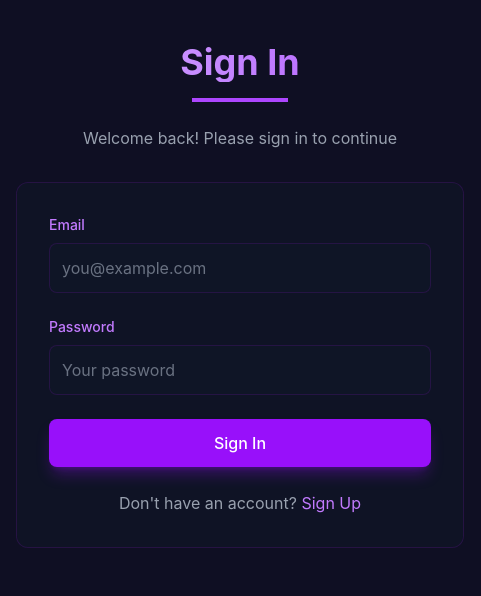
Test case: SignIn Component › displays error message on failed sign in
In the field with placeholder "you@example.com": x=240, y=268 [49,243,431,293], type "wrong@example.com"
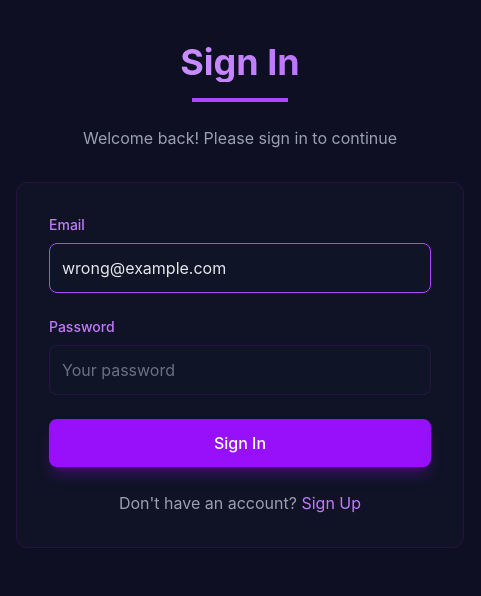
In the password field with placeholder "Your password": x=240, y=370 [49,345,431,395], type "wrongpassword"
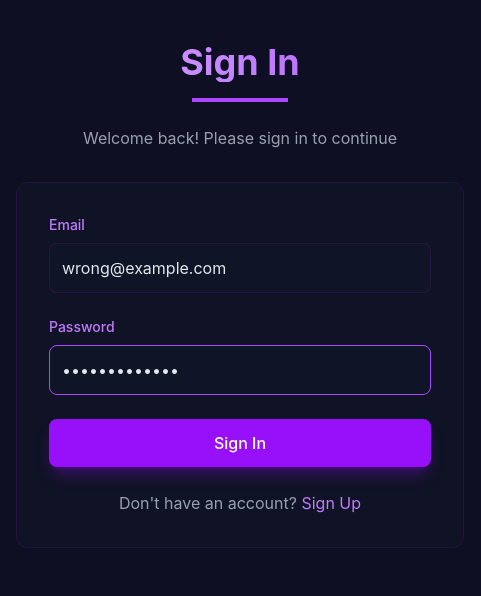
Click the button "Sign In": x=240, y=443 [49,419,431,467]
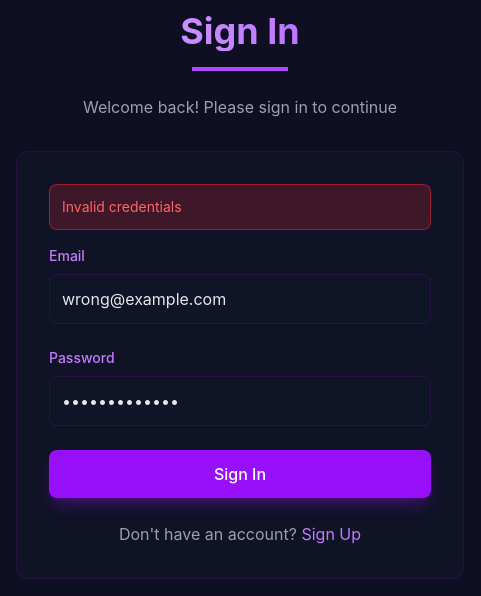
Expected: the text "Invalid credentials" is shown, [49,184,431,230]
